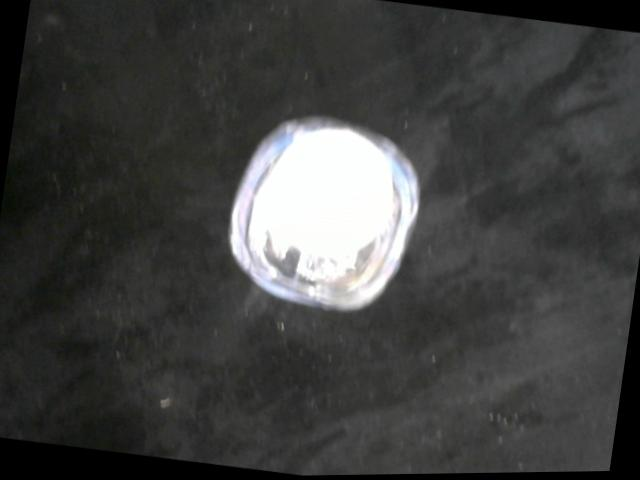bottle: (220, 104, 430, 326)
